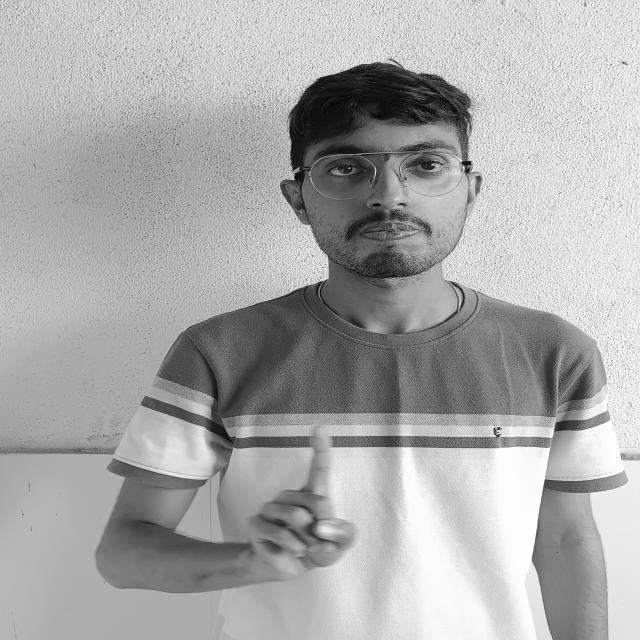Question: (204, 418, 389, 584)
